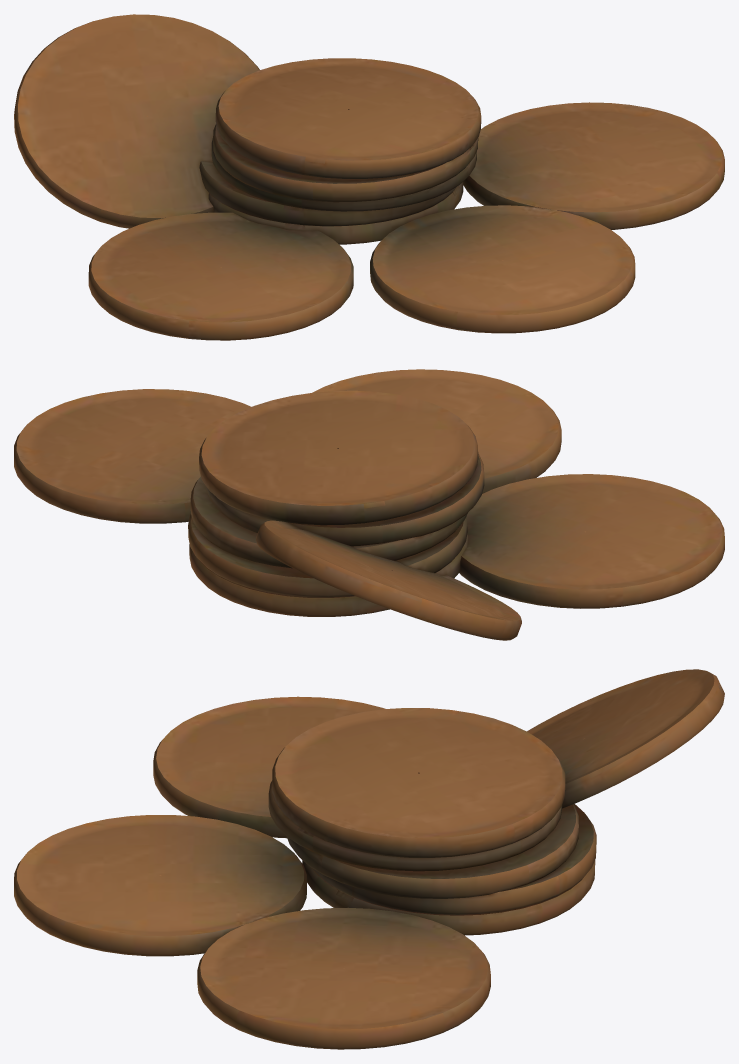
The model's file is follis.glb.
The picture shows the model from 3 angles, top to bottom: view 1: azimuth 30°, elevation 25°; view 2: azimuth 150°, elevation 25°; view 3: azimuth 270°, elevation 25°; orthographic projection. The views are drawn at different scales.
Parts seen in each view (by area): view 1: follis; view 2: follis; view 3: follis.
Boxes of the visible parts, x1,y1,x2,y2 form: follis: [14, 14, 724, 340]; follis: [14, 369, 724, 640]; follis: [14, 669, 724, 1049].
Size of the model in its own units: 0.0783 by 0.0148 by 0.0702.
Materials: 1 (1 with a texture image).
